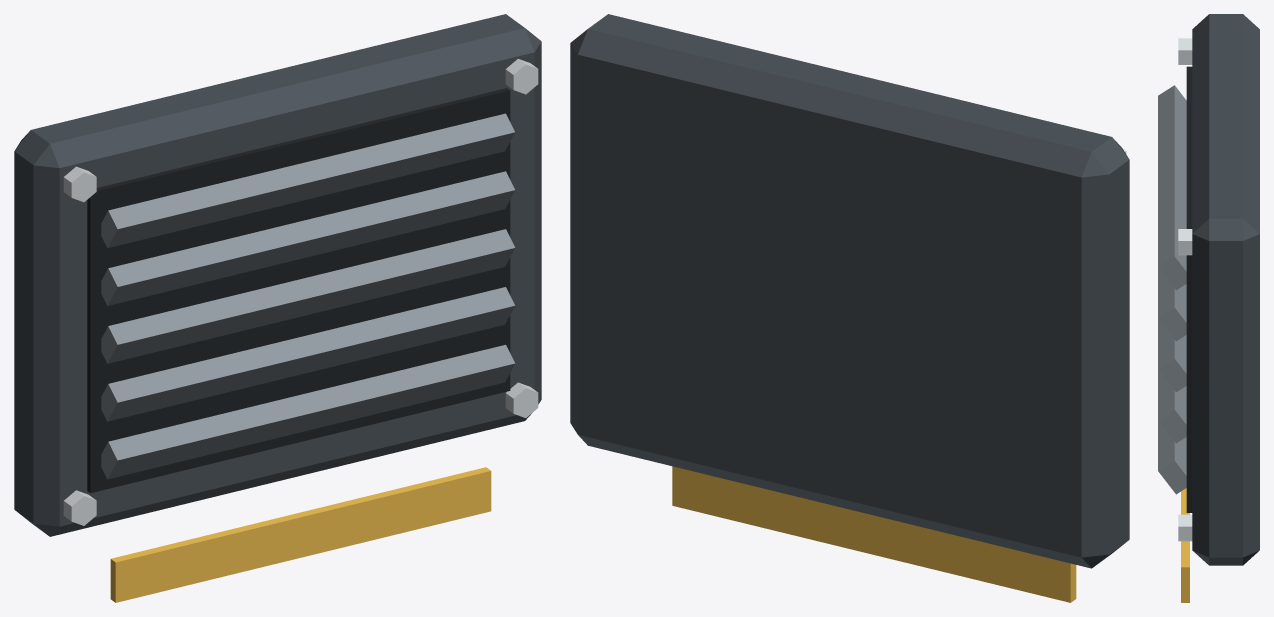
The model's file is Kit_Vent.fbx.
3 views of the same model, side by side, from view 1: azimuth 30°, elevation 25°; view 2: azimuth 150°, elevation 25°; view 3: azimuth 270°, elevation 25° (orthographic). The views are drawn at different scales.
Visible parts, largest first — view 1: Decor; view 2: Decor; view 3: Decor.
Part boxes in pixels (x1,y1,x2,y2): Decor: (14, 14, 541, 602); Decor: (570, 14, 1129, 602); Decor: (1158, 14, 1259, 602).
Bounding box in the file's own units: 4.6 × 3.98 × 0.904.
